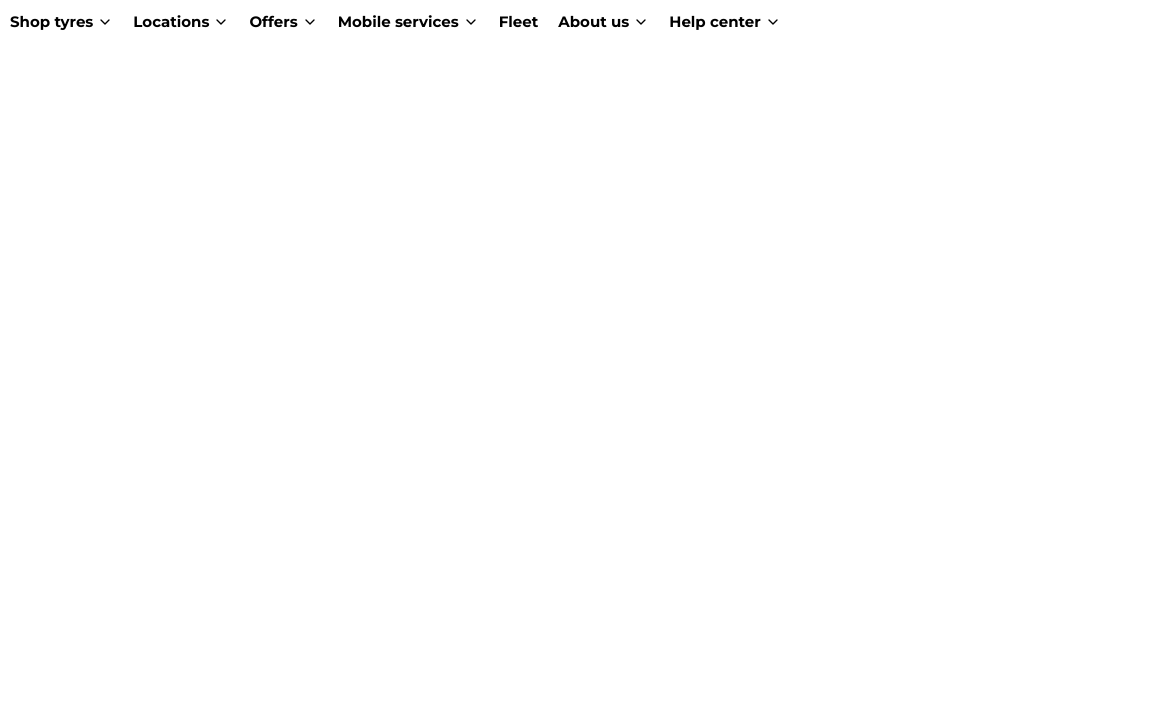
HeaderNav (desktop mega menu) › opens only one panel at a time
Click the button "Shop tyres". click: (62,22)
box: [0,0,123,44]
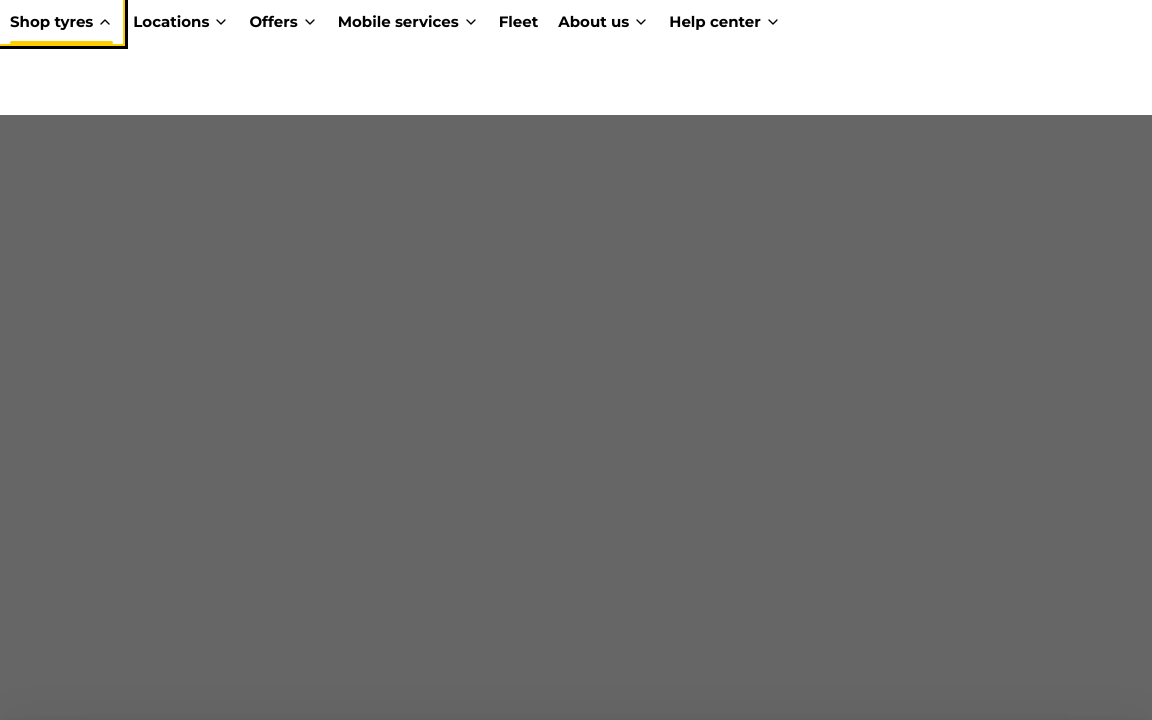
Click the button "Help center". click: (725,22)
box: [659,0,791,44]
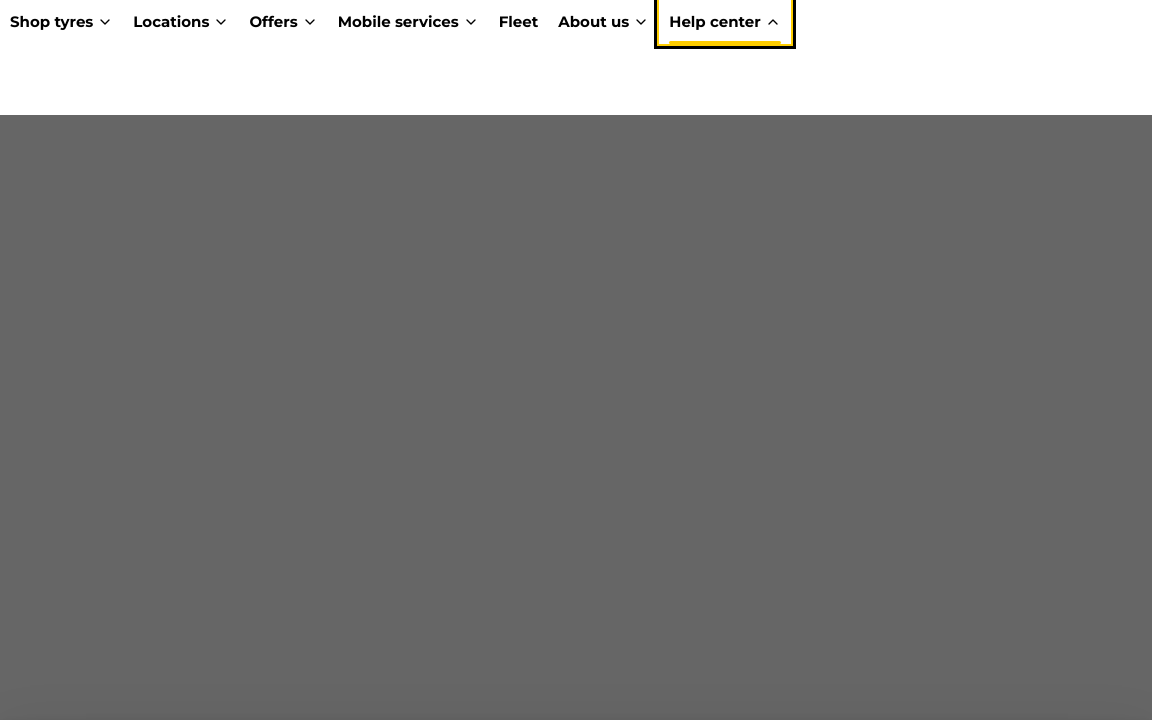
expect the button "Shop tyres" is collapsed: met, box [0,0,123,44]
expect the button "Help center" is expanded: met, box [659,0,791,44]
